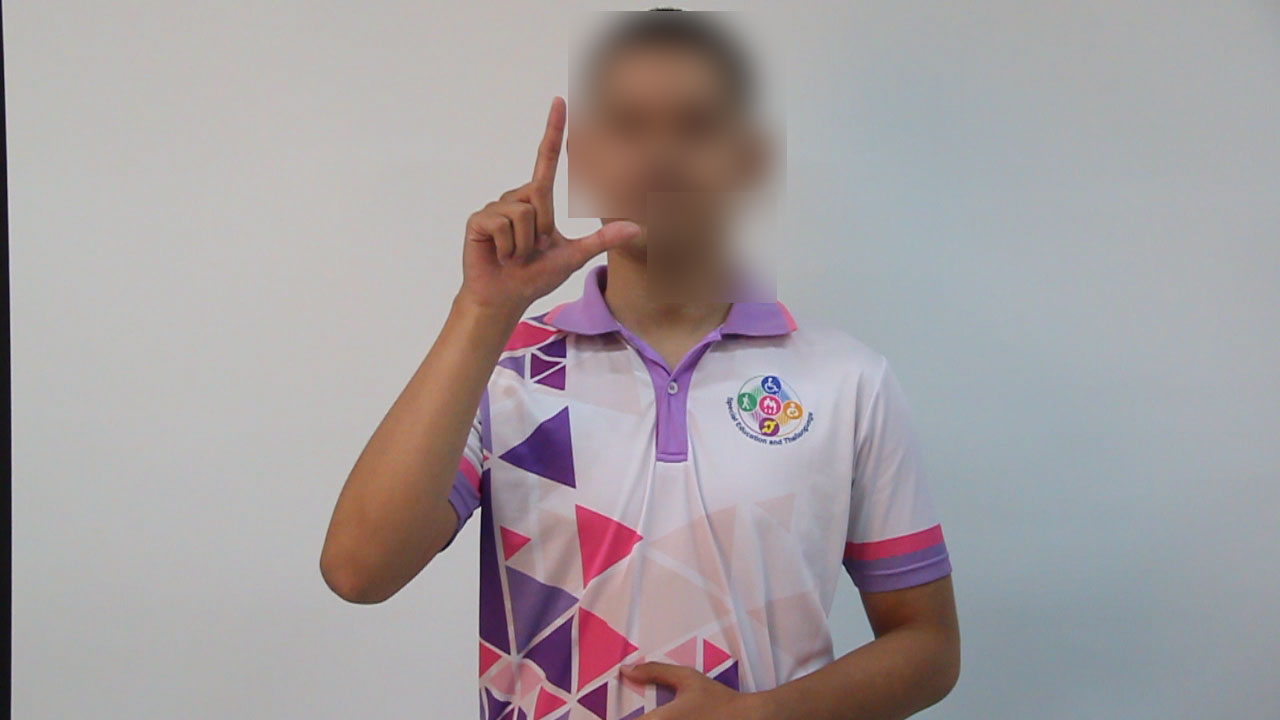lor: (452, 64, 681, 347)
